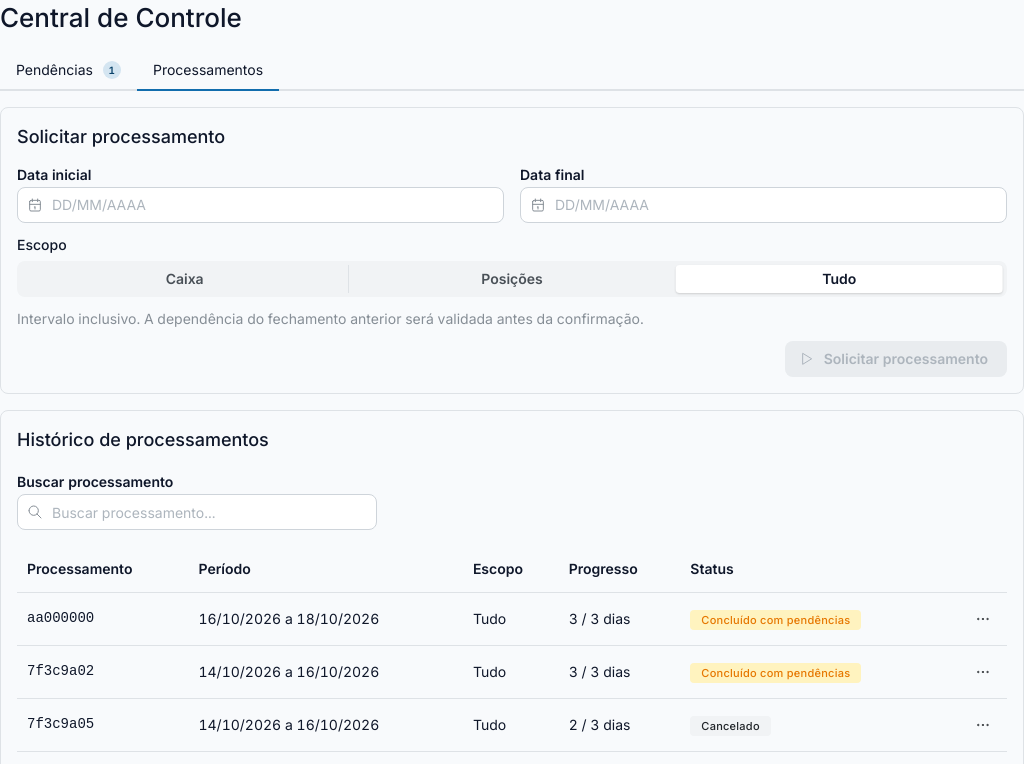
Processamentos: details (§11.1, §10.4) › OQ-36 OQ-40 a Concluído com pendências Tudo run where a chain failed shows the error, its date and chain
Click the button named "Ações do processamento".
click(983, 619)  # box [969, 605, 997, 633]
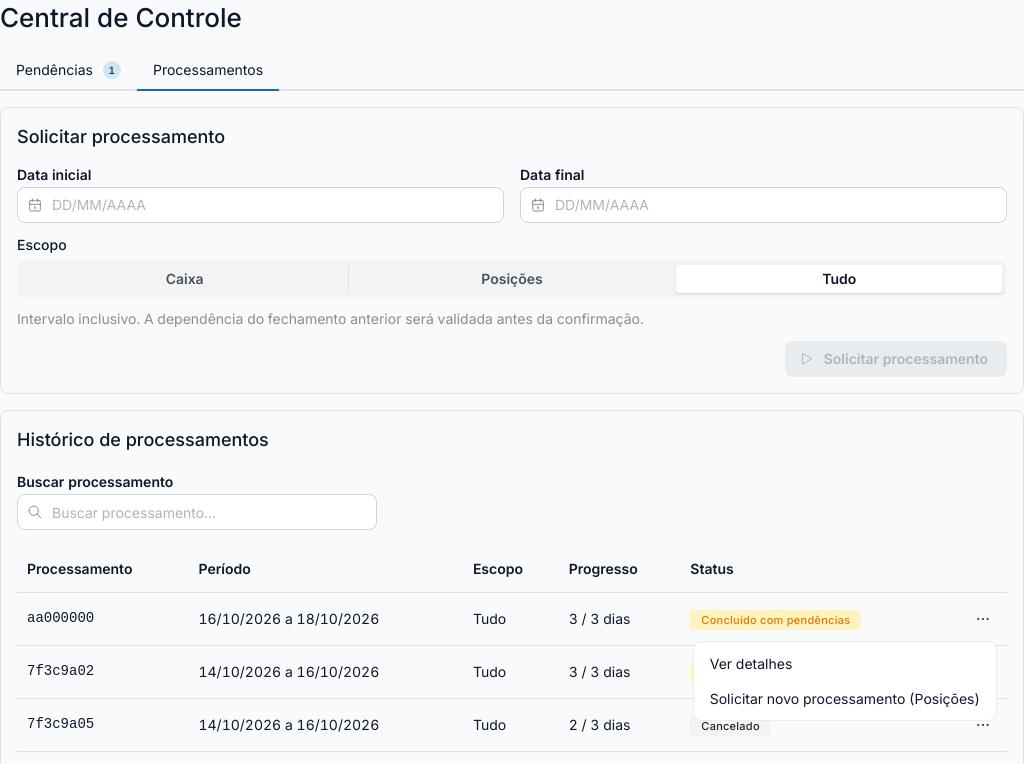
Expected: the menu items read "Ver detalhes", "Solicitar novo processamento (Posições)", in this order
Click the menu item "Ver detalhes".
click(751, 663)  # box [698, 646, 992, 681]
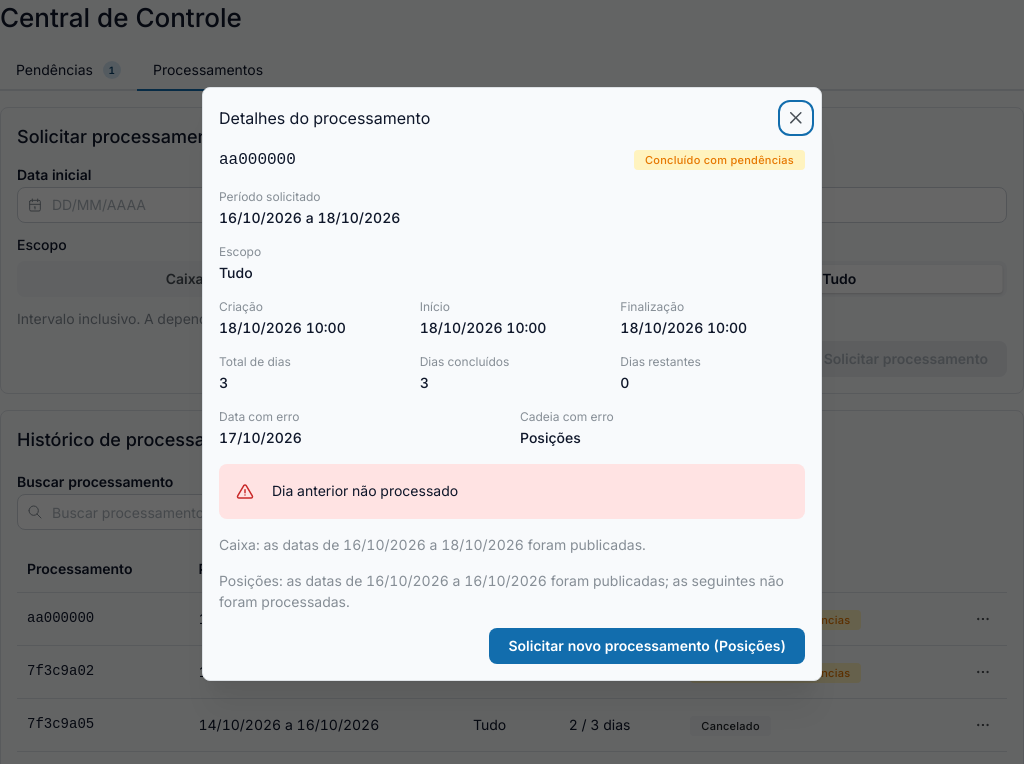
Expected: the message "Dia anterior não processado" is shown, [219, 464, 805, 519]
Expected: the text "17/10/2026" is shown, [219, 429, 302, 446]
Expected: the text "Posições" is shown, [520, 429, 581, 446]
